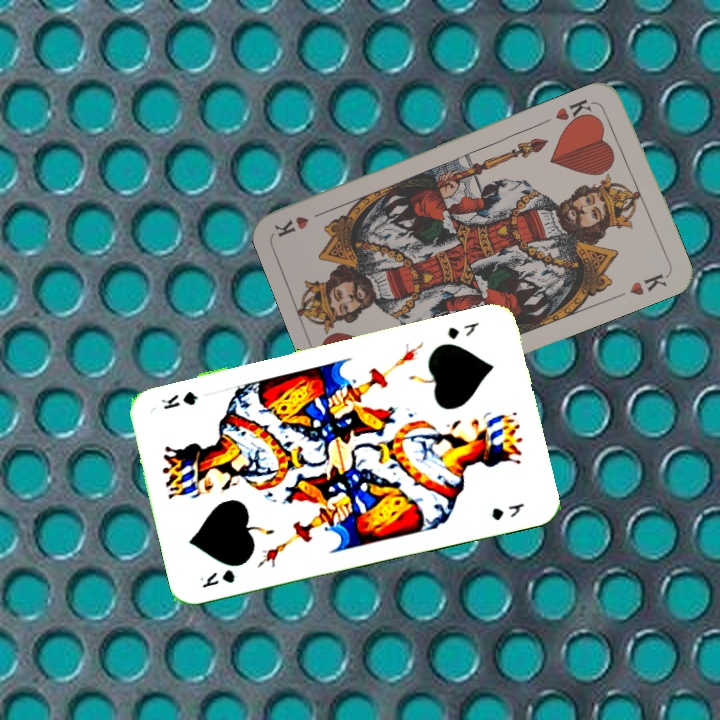GK: (196, 565, 238, 591), (444, 317, 482, 342)
HK: (551, 95, 600, 130)
